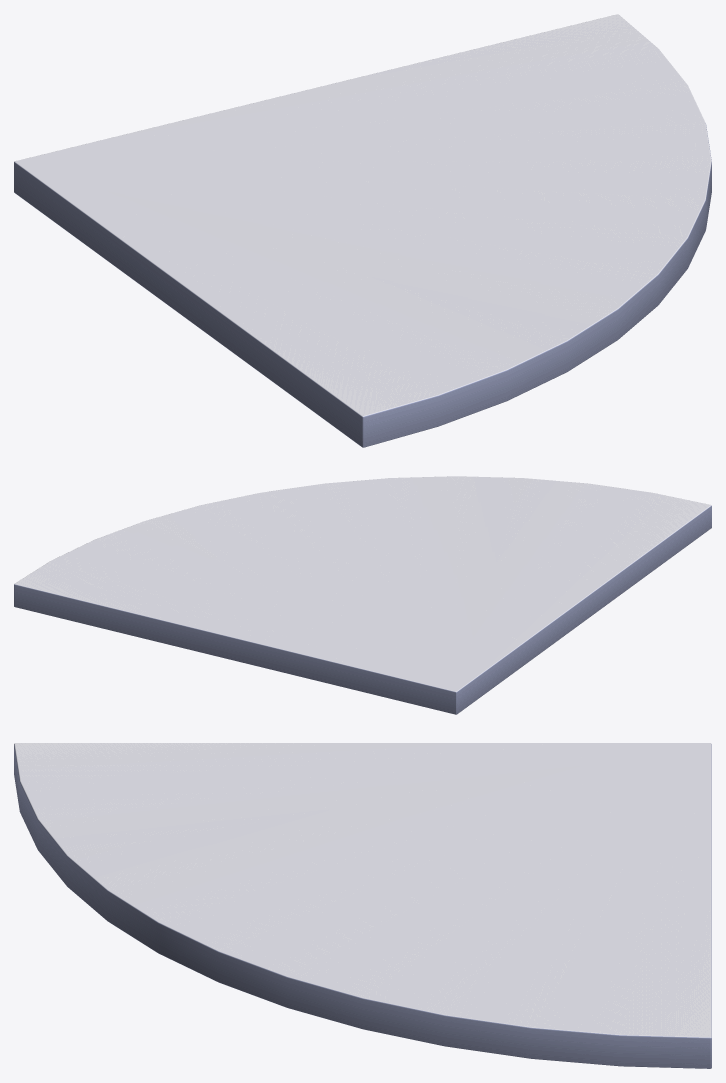
Rendered from floor-corner-round.glb.
3 renders of one model, top to bottom at view 1: azimuth 30°, elevation 25°; view 2: azimuth 150°, elevation 25°; view 3: azimuth 270°, elevation 25°, orthographic. The views are drawn at different scales.
Parts seen in each view (by area): view 1: floor-corner-round; view 2: floor-corner-round; view 3: floor-corner-round.
Boxes of the visible parts, bbox=[...] form: floor-corner-round: bbox=[14, 14, 711, 447]; floor-corner-round: bbox=[14, 476, 711, 714]; floor-corner-round: bbox=[14, 743, 711, 1068].
Bounding box in the file's own units: 2 × 0.1 × 2.
Materials: 1 (1 with a texture image).
